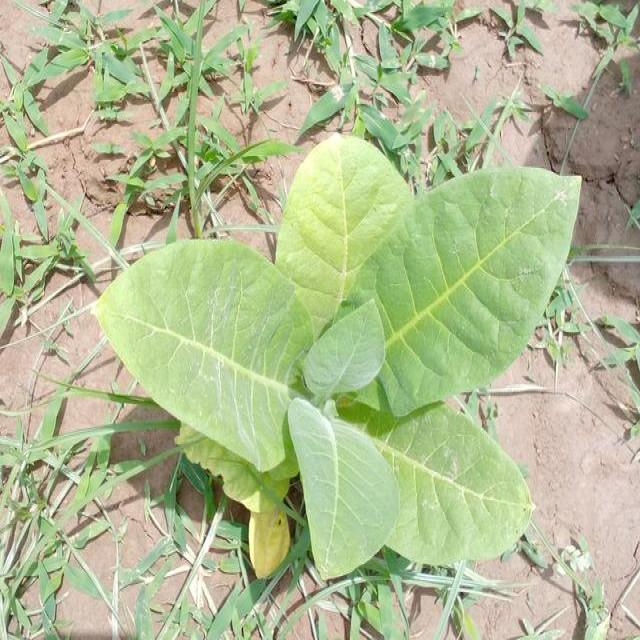crop: (94, 132, 586, 574)
